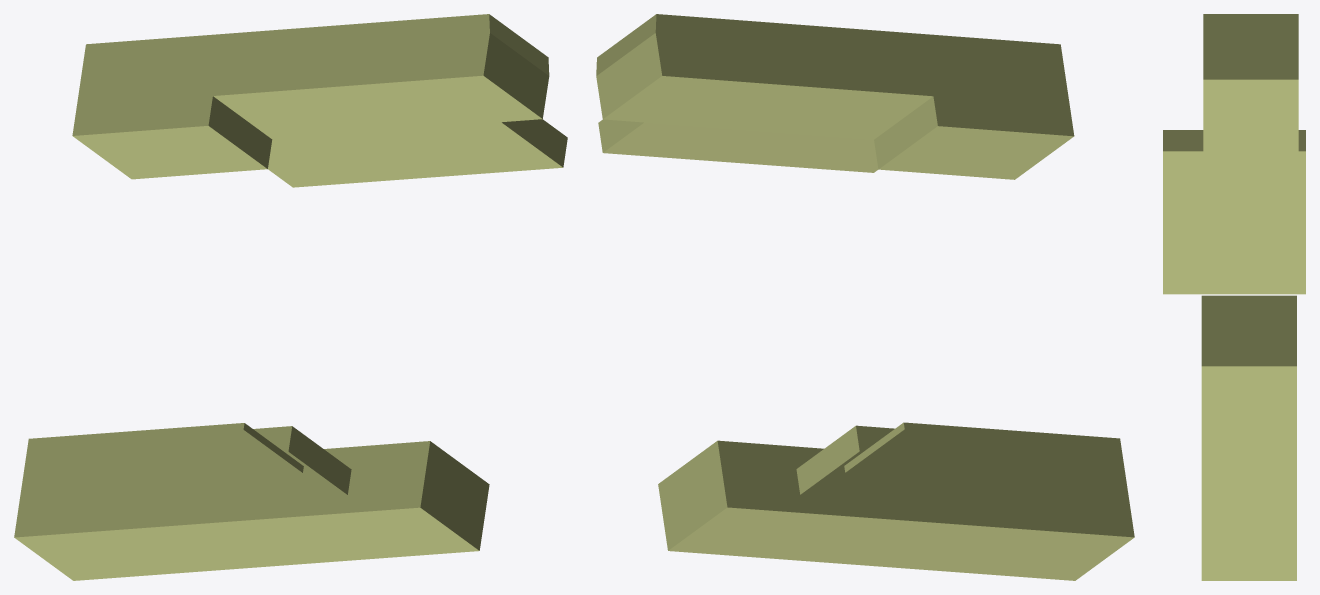
3 renders of one model, left to right at view 1: azimuth 30°, elevation 25°; view 2: azimuth 150°, elevation 25°; view 3: azimuth 270°, elevation 25°, orthographic. The views are drawn at different scales.
Visible parts, largest first — view 1: 0_3_2_2_3_0_0_0_0; view 2: 0_3_2_2_3_0_0_0_0; view 3: 0_3_2_2_3_0_0_0_0.
Part boxes in pixels (x1,y1,x2,y2): 0_3_2_2_3_0_0_0_0: (14, 14, 567, 580); 0_3_2_2_3_0_0_0_0: (596, 14, 1134, 580); 0_3_2_2_3_0_0_0_0: (1163, 14, 1305, 580).
Bounding box in the file's own units: 27.84 × 30.36 × 9.
